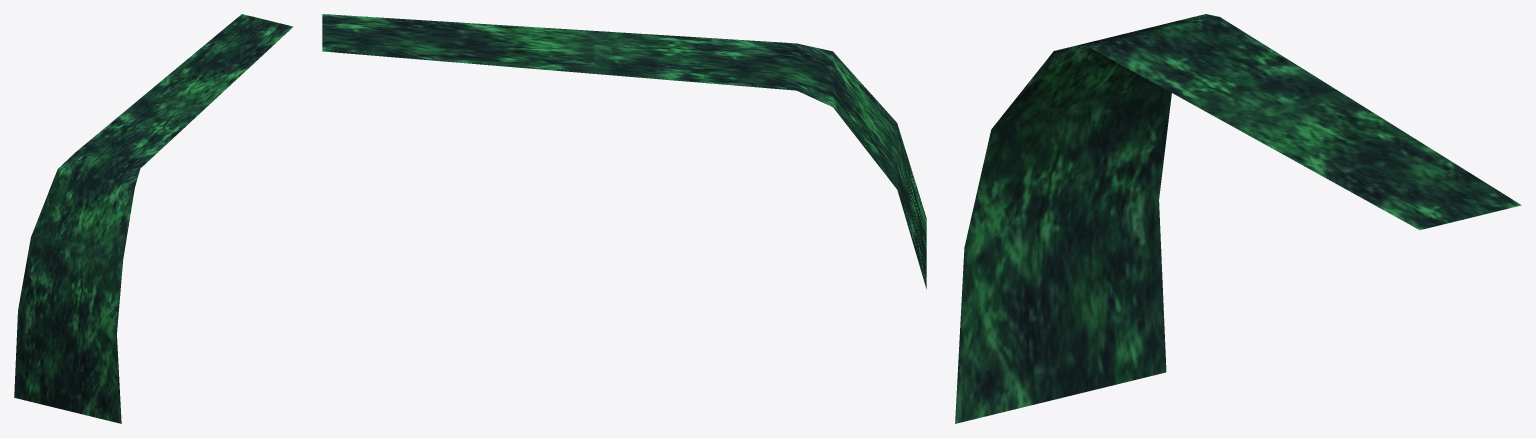
3 renders of one model, left to right at view 1: azimuth 30°, elevation 25°; view 2: azimuth 150°, elevation 25°; view 3: azimuth 270°, elevation 25°, orthographic. The views are drawn at different scales.
Parts seen in each view (by area): view 1: Wv12; view 2: Wv12; view 3: Wv12.
Boxes of the visible parts, x1=… form: Wv12: x1=14, y1=14, x2=293, y2=423; Wv12: x1=322, y1=14, x2=926, y2=288; Wv12: x1=955, y1=14, x2=1521, y2=423.
Bounding box in the file's own units: 81.28 × 54.22 × 58.95.
